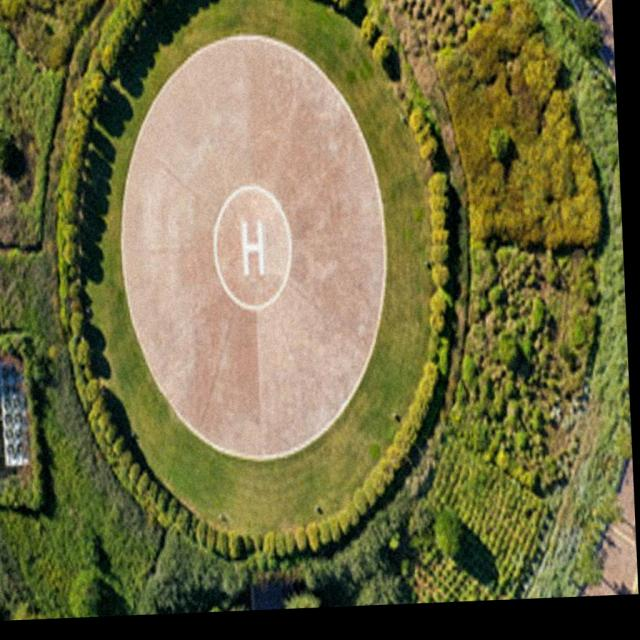helipad: (210, 180, 296, 314)
